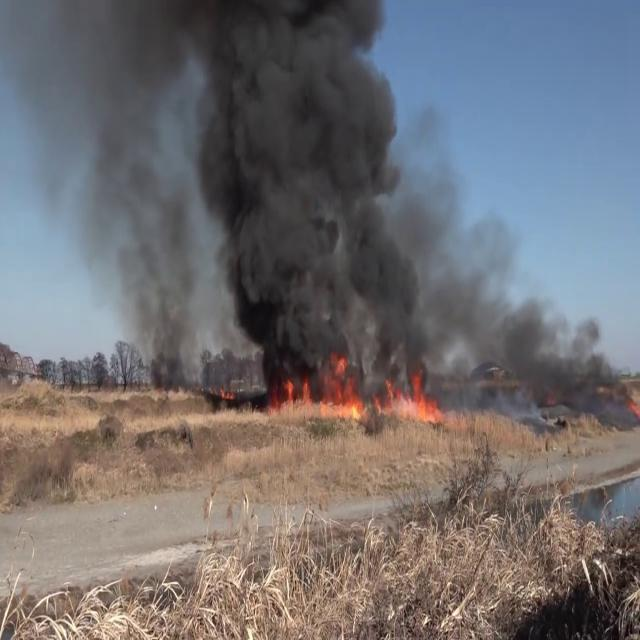Fire: (272, 352, 368, 420), (376, 370, 446, 418)
Smoke: (187, 0, 435, 387), (3, 0, 203, 373), (436, 215, 626, 409)
